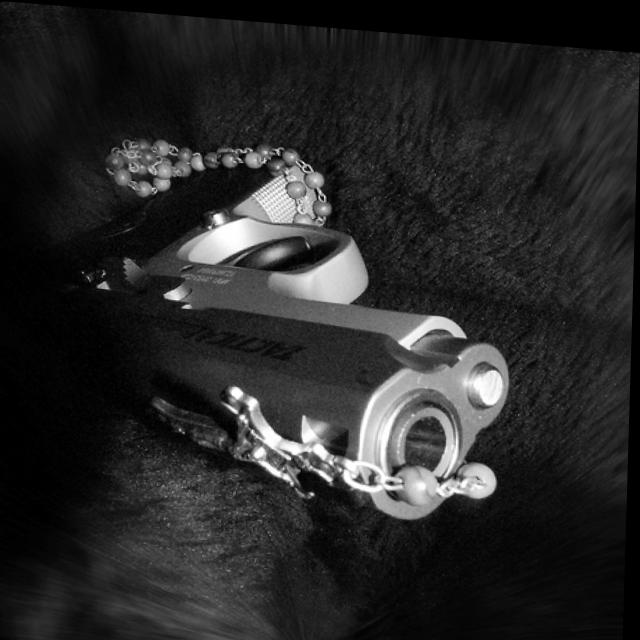handgun: (44, 119, 513, 523)
